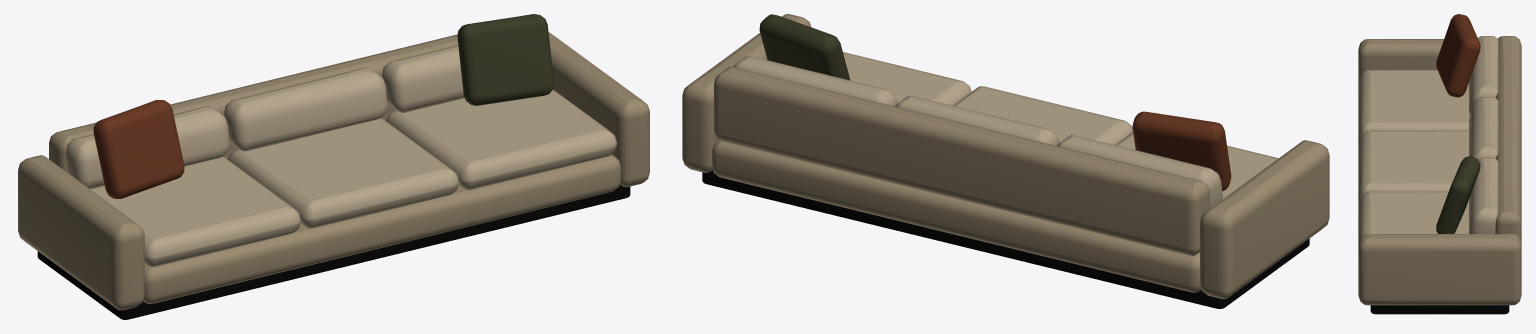
The model's file is modular-sofa-lod1.glb.
The picture shows the model from 3 angles, left to right: view 1: azimuth 30°, elevation 25°; view 2: azimuth 150°, elevation 25°; view 3: azimuth 270°, elevation 25°; orthographic projection. The views are drawn at different scales.
Visible parts, largest first — view 1: Oatmeal performance fabric, Oatmeal upholstered base, Olive accent pillow, Terracotta accent pillow, Shadow plinth; view 2: Oatmeal upholstered base, Oatmeal performance fabric, Shadow plinth, Terracotta accent pillow, Olive accent pillow; view 3: Oatmeal performance fabric, Oatmeal upholstered base, Terracotta accent pillow, Olive accent pillow, Shadow plinth.
Part boxes in pixels (x1,y1,x2,y2): Oatmeal performance fabric: (65,45,616,267); Oatmeal upholstered base: (18,32,649,310); Olive accent pillow: (457,14,553,105); Terracotta accent pillow: (93,100,184,198); Shadow plinth: (37,184,630,319); Oatmeal upholstered base: (682,14,1329,299); Oatmeal performance fabric: (733,52,1278,208); Shadow plinth: (702,170,1309,308); Terracotta accent pillow: (1132,111,1231,191); Olive accent pillow: (759,14,850,80); Oatmeal performance fabric: (1359,36,1498,238); Oatmeal upholstered base: (1358,36,1521,305); Terracotta accent pillow: (1436,14,1480,97); Olive accent pillow: (1436,156,1480,233); Shadow plinth: (1370,305,1509,314).
Bounding box in the file's own units: 3.05 × 0.8177 × 1.02.
